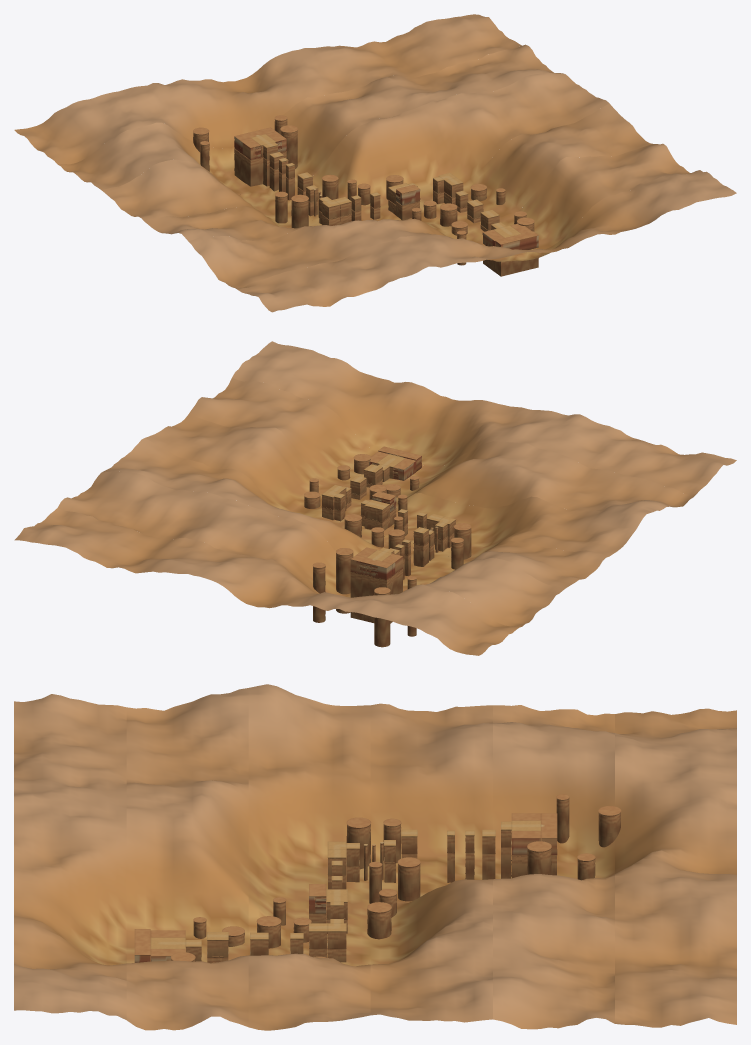
The model's file is mesa_lifts_terrain.glb.
3 renders of one model, top to bottom at view 1: azimuth 30°, elevation 25°; view 2: azimuth 150°, elevation 25°; view 3: azimuth 270°, elevation 25°, orthographic. The views are drawn at different scales.
Visible parts, largest first — view 1: backdrop_3, backdrop_5, backdrop_4, backdrop_1, backdrop_0, backdrop_2, terrain_J, terrain_H, terrain_A, terrain_D, terrain_F, terrain_B (+2 smaller); view 2: backdrop_0, backdrop_1, backdrop_4, backdrop_2, backdrop_5, backdrop_3, terrain_J, terrain_H, terrain_F, terrain_B, terrain_A, terrain_D (+1 smaller); view 3: backdrop_5, backdrop_1, backdrop_0, backdrop_2, backdrop_4, backdrop_3, terrain_J, terrain_H, terrain_F, terrain_D, terrain_B, terrain_I (+3 smaller).
Part boxes in pixels (x1,y1,x2,y2): backdrop_3: (101,72,609,226); backdrop_5: (14,14,521,164); backdrop_4: (58,44,564,194); backdrop_1: (188,143,690,287); backdrop_0: (233,170,736,312); backdrop_2: (145,103,652,241); terrain_J: (193,115,297,186); terrain_H: (275,172,356,228); terrain_A: (482,223,538,276); terrain_D: (423,177,505,226); terrain_F: (357,175,421,220); terrain_B: (451,210,534,265); backdrop_0: (232,341,736,494); backdrop_1: (188,377,696,511); backdrop_4: (57,471,565,626); backdrop_2: (145,414,652,560); backdrop_5: (14,508,521,655); backdrop_3: (102,438,609,589); terrain_J: (312,547,416,647); terrain_H: (388,516,471,569); terrain_F: (344,491,407,547); terrain_B: (337,454,419,497); terrain_A: (369,446,421,480); terrain_D: (304,478,386,510); backdrop_5: (615,708,736,1027); backdrop_1: (126,688,248,1030); backdrop_0: (14,694,126,1019); backdrop_2: (248,684,370,1030); backdrop_4: (493,705,614,1029); backdrop_3: (370,703,492,1022); terrain_J: (501,794,621,880); terrain_H: (327,817,420,903); terrain_F: (273,884,397,939); terrain_D: (256,916,327,957); terrain_B: (171,917,244,963); terrain_I: (447,829,495,882).
Bounding box in the file's own units: 560 × 86.73 × 539.
